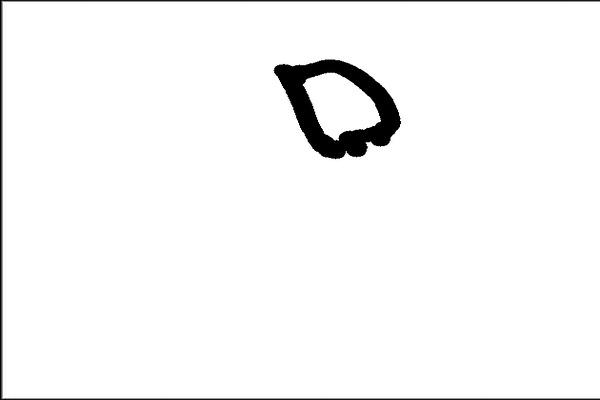D: (270, 52, 406, 164)
